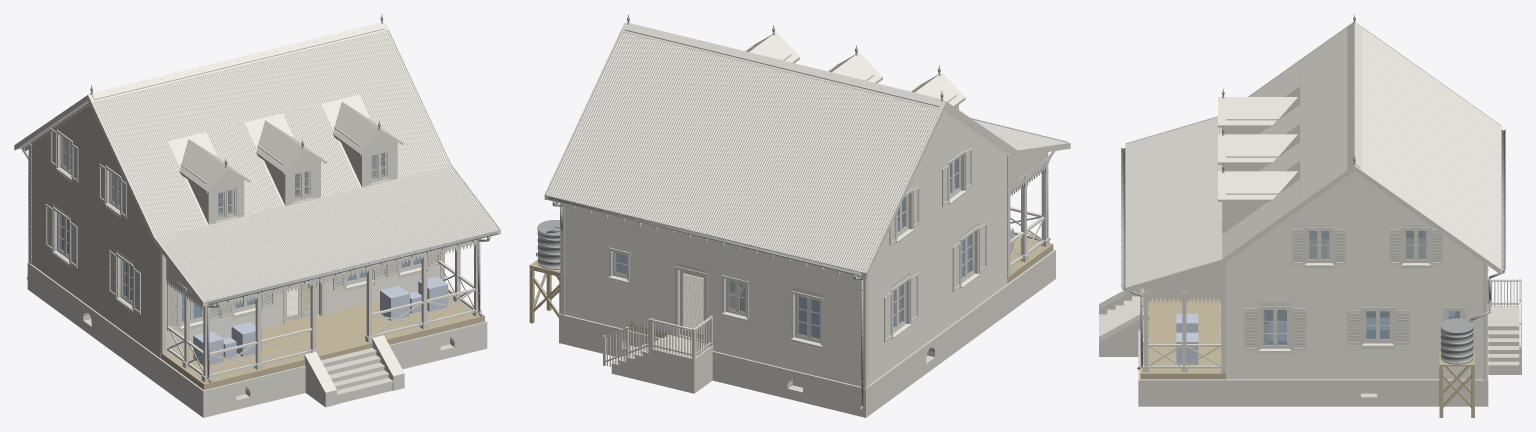
The model's file is bel_air_h01.glb.
3 views of the same model, side by side, from view 1: azimuth 30°, elevation 25°; view 2: azimuth 150°, elevation 25°; view 3: azimuth 270°, elevation 25° (orthographic). The views are drawn at different scales.
Visible parts, largest first — view 1: Arch_new_roof_corrugated_red, Arch_white_peeling_timber, Roof_Main, Plinth, Floor_EG, Arch_shutter_paint, Dormer_Roofs, Dormers, Arch_basalt_dressed, new_roof_corrugated_red, Arch_basalt_masonry, Arch_glass (+7 smaller); view 2: Arch_new_roof_corrugated_red, Arch_white_peeling_timber, Roof_Main, Plinth, Arch_basalt_dressed, new_roof_corrugated_red, Dormer_Roofs, Arch_shutter_paint, Wall_Ext, Arch_glass, galvanized_steel, DoorLeaf_02_R_in (+4 smaller); view 3: Arch_new_roof_corrugated_red, Arch_white_peeling_timber, Plinth, Dormer_Roofs, Floor_EG, Arch_shutter_paint, Arch_basalt_dressed, Arch_glass, galvanized_steel, new_roof_corrugated_red, Arch_basalt_masonry, Dormers (+7 smaller).
Part boxes in pixels (<box>): Arch_new_roof_corrugated_red: <box>89,22,499,301</box>; Arch_white_peeling_timber: <box>14,22,500,382</box>; Roof_Main: <box>16,31,499,306</box>; Plinth: <box>27,262,487,417</box>; Floor_EG: <box>161,285,484,389</box>; Arch_shutter_paint: <box>45,128,440,330</box>; Dormer_Roofs: <box>179,101,403,193</box>; Dormers: <box>180,118,397,224</box>; Arch_basalt_dressed: <box>321,348,393,403</box>; new_roof_corrugated_red: <box>92,22,385,100</box>; Arch_basalt_masonry: <box>304,335,404,407</box>; Arch_glass: <box>59,137,421,321</box>; Arch_new_roof_corrugated_red: <box>545,23,1067,272</box>; Arch_white_peeling_timber: <box>544,23,1070,388</box>; Roof_Main: <box>545,32,1014,277</box>; Plinth: <box>559,249,1055,417</box>; Arch_basalt_dressed: <box>611,334,713,393</box>; new_roof_corrugated_red: <box>624,23,941,106</box>; Dormer_Roofs: <box>746,32,965,107</box>; Arch_shutter_paint: <box>884,148,987,342</box>; Wall_Ext: <box>609,110,1008,349</box>; Arch_glass: <box>616,158,971,338</box>; galvanized_steel: <box>536,30,1067,411</box>; DoorLeaf_02_R_in: <box>680,270,704,339</box>; Arch_new_roof_corrugated_red: <box>1125,23,1501,287</box>; Arch_white_peeling_timber: <box>1125,22,1521,379</box>; Plinth: <box>1138,270,1488,406</box>; Dormer_Roofs: <box>1218,97,1297,201</box>; Floor_EG: <box>1140,288,1268,379</box>; Arch_shutter_paint: <box>1221,229,1442,350</box>; Arch_basalt_dressed: <box>1099,296,1521,374</box>; Arch_glass: <box>1263,231,1459,344</box>; galvanized_steel: <box>1121,44,1505,369</box>; new_roof_corrugated_red: <box>1348,22,1360,167</box>; Arch_basalt_masonry: <box>1099,289,1140,356</box>; Dormers: <box>1222,119,1278,233</box>.
Size of the model in its own units: 12.83 by 9.52 by 14.4.
